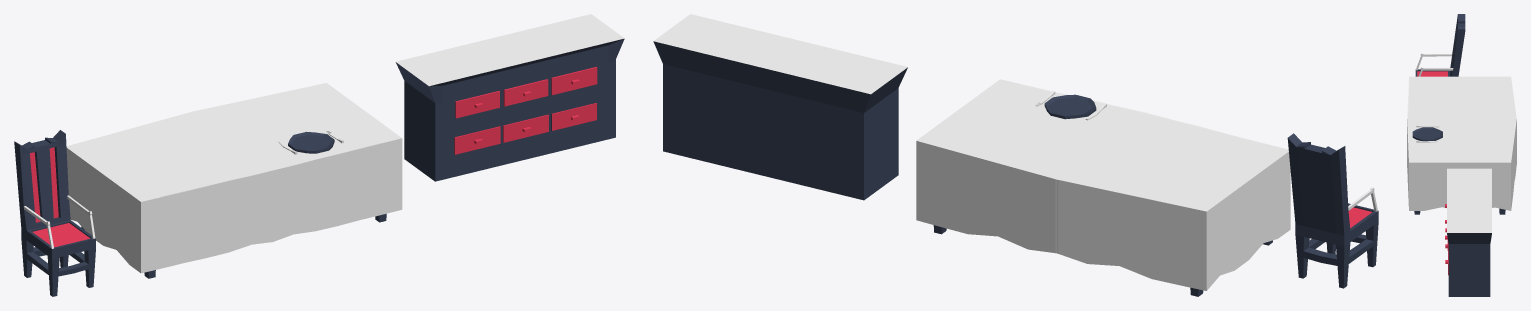
Rendered from assetDining.fbx.
3 renders of one model, left to right at view 1: azimuth 30°, elevation 25°; view 2: azimuth 150°, elevation 25°; view 3: azimuth 270°, elevation 25°, orthographic. The views are drawn at different scales.
Visible parts, largest first — view 1: tableDining, buffetDining, chairDining, Cube.002; view 2: tableDining, buffetDining, chairDining, Cube.002; view 3: tableDining, buffetDining, chairDining, Cube.002.
Part boxes in pixels (x1,y1,x2,y2): tableDining: (66, 83, 402, 278); buffetDining: (395, 14, 624, 181); chairDining: (14, 130, 95, 296); Cube.002: (278, 131, 343, 154); tableDining: (916, 79, 1290, 296); buffetDining: (653, 14, 907, 200); chairDining: (1287, 133, 1378, 288); Cube.002: (1035, 91, 1106, 120); tableDining: (1407, 76, 1516, 214); buffetDining: (1445, 168, 1491, 296); chairDining: (1415, 14, 1465, 76); Cube.002: (1412, 125, 1442, 142).
Size of the model in its own units: 2228 by 478 by 525.
